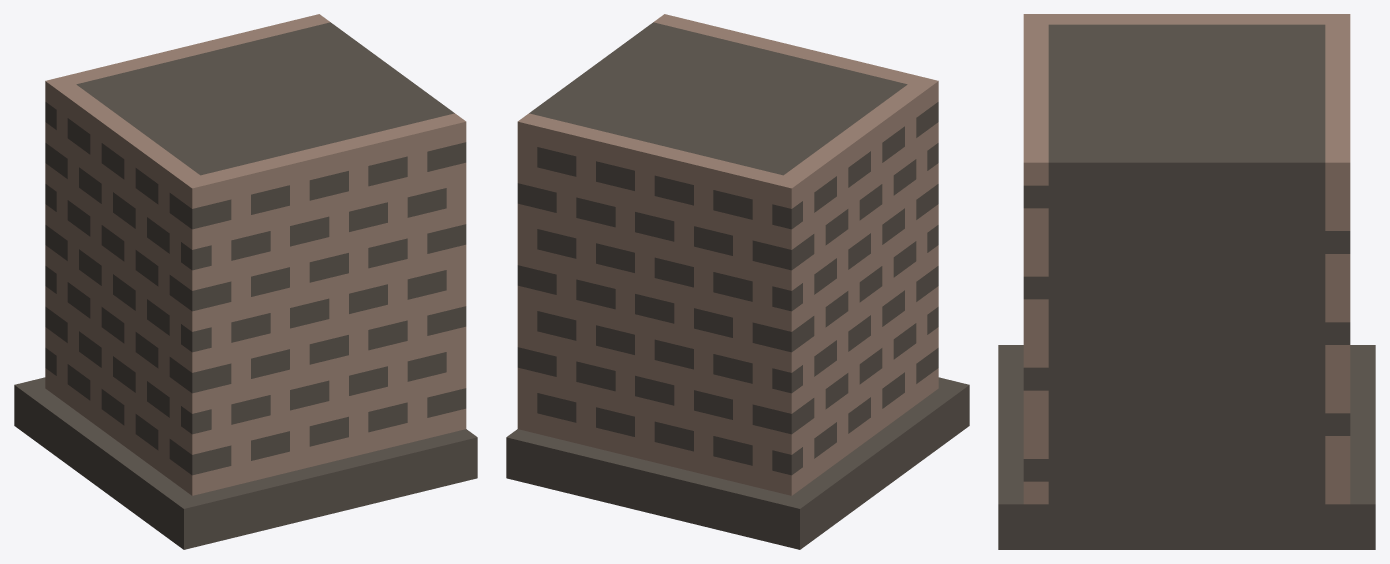
The model's file is dungeon_a_b_inner_wall_ending.obj.
3 renders of one model, left to right at view 1: azimuth 30°, elevation 25°; view 2: azimuth 150°, elevation 25°; view 3: azimuth 270°, elevation 25°, orthographic. The views are drawn at different scales.
Size of the model in its own units: 1.5 by 1.7 by 1.5.
Materials: 1 (1 with a texture image).
